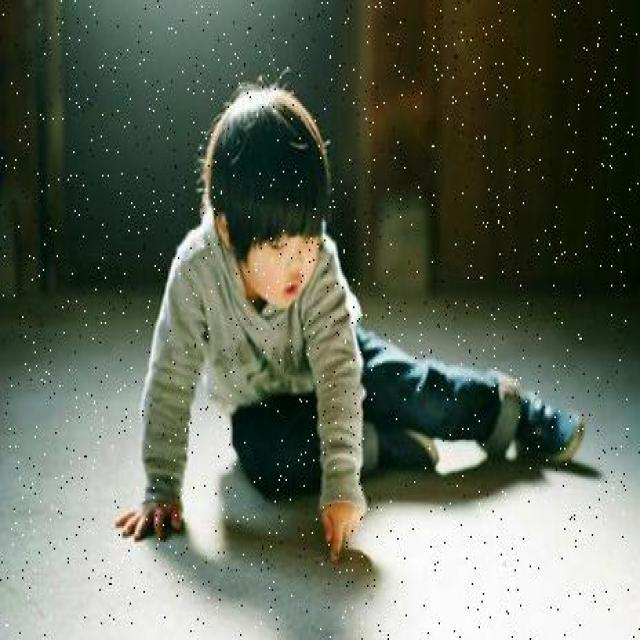fall: (130, 108, 570, 560)
